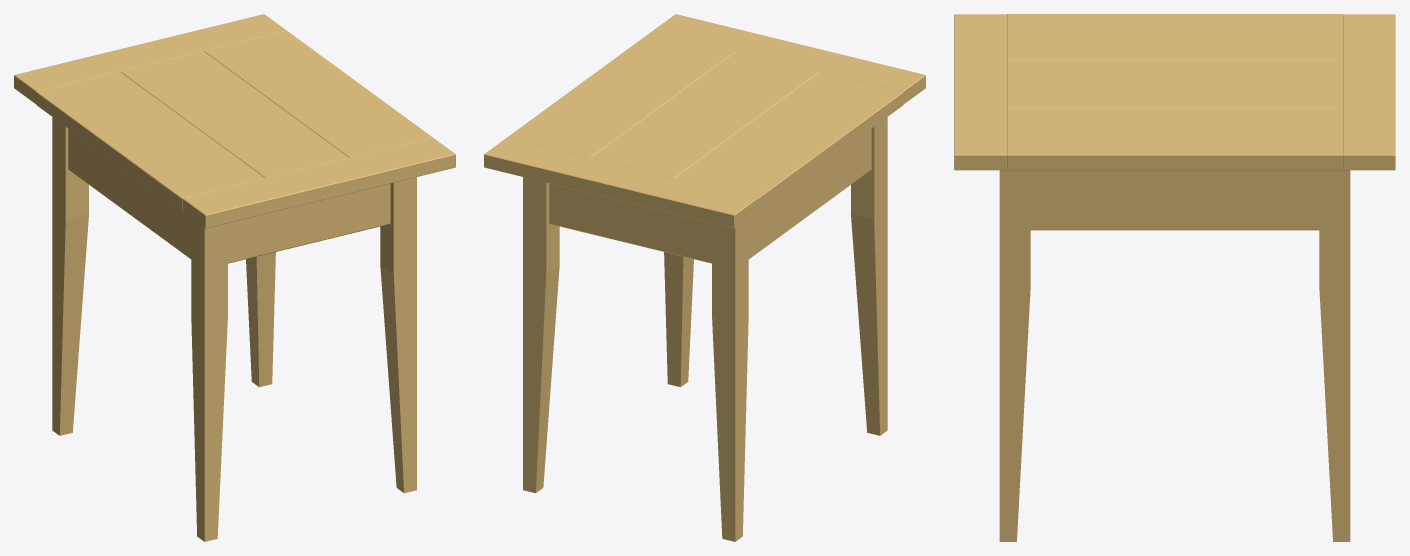
Rendered from JammyTable.glb.
3 renders of one model, left to right at view 1: azimuth 30°, elevation 25°; view 2: azimuth 150°, elevation 25°; view 3: azimuth 270°, elevation 25°, orthographic. The views are drawn at different scales.
Visible parts, largest first — view 1: Tabletop, TableLegs, TableFront, TableSides, Cube; view 2: Tabletop, TableLegs, TableFront, TableSides, Cube; view 3: Tabletop, TableLegs, Cube, TableFront.
Boxes of the visible parts, x1=… form: Tabletop: x1=36, y1=30, x2=432, y2=211; TableLegs: x1=52, y1=117, x2=416, y2=541; TableFront: x1=14, y1=14, x2=455, y2=228; TableSides: x1=228, y1=183, x2=390, y2=263; Cube: x1=68, y1=129, x2=191, y2=258; Tabletop: x1=507, y1=30, x2=903, y2=211; TableLegs: x1=523, y1=117, x2=887, y2=541; TableFront: x1=484, y1=14, x2=925, y2=228; TableSides: x1=549, y1=183, x2=711, y2=263; Cube: x1=748, y1=129, x2=871, y2=258; Tabletop: x1=1007, y1=14, x2=1342, y2=170; TableLegs: x1=999, y1=170, x2=1350, y2=541; Cube: x1=1030, y1=170, x2=1319, y2=230; TableFront: x1=954, y1=14, x2=1395, y2=170.
Bounding box in the file's own units: 4.38 × 5.76 × 5.79.
